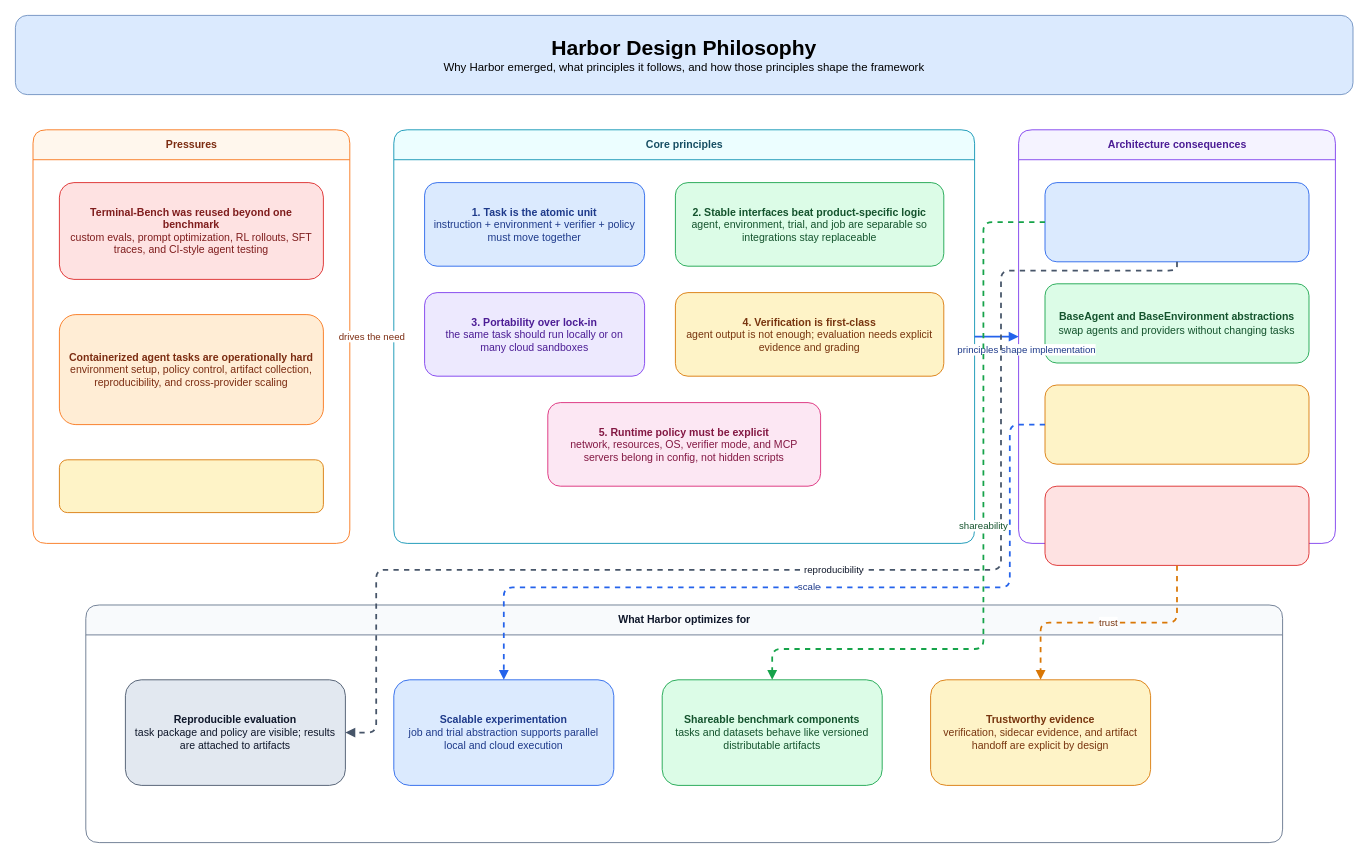
Some shapes in this 1368 by 858 pixel diagram are drawn without their labels. Each missing label, with the centre of its shape:
"Artifacts + separate verifier sandbox evidence flow is part of the architecture" goes at [1176,525].
"Harbor turns these into one framework problem" goes at [191,486].
"Job -> Trial orchestration many reproducible runs from one config surface" goes at [1176,424].
"Task format + dataset / registry model portable package first, dataset second" goes at [1176,222].
